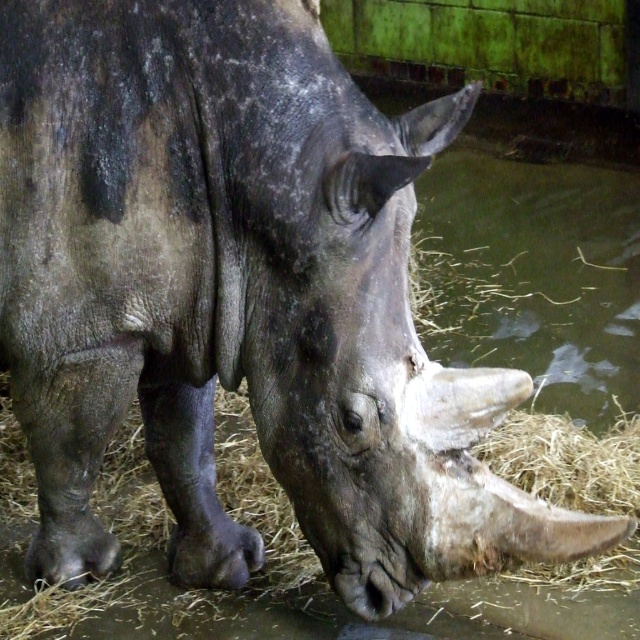Rhinoceros: (0, 0, 636, 625)
